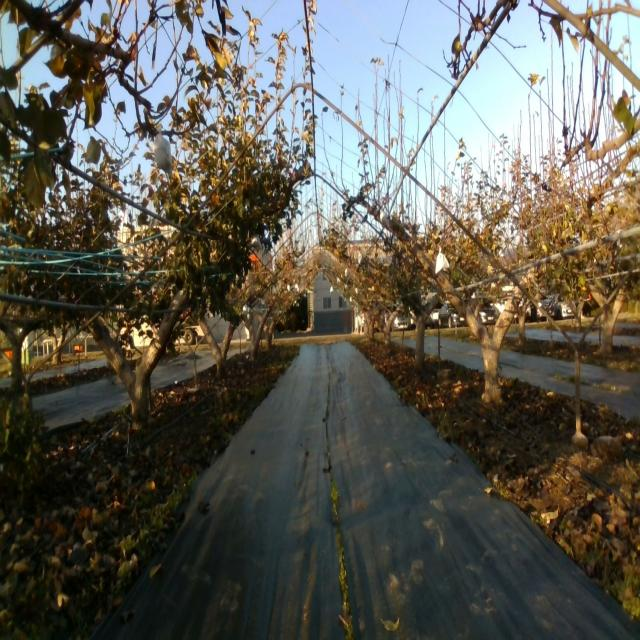pearbags: (153, 128, 173, 177), (435, 246, 450, 275), (379, 209, 390, 227)
